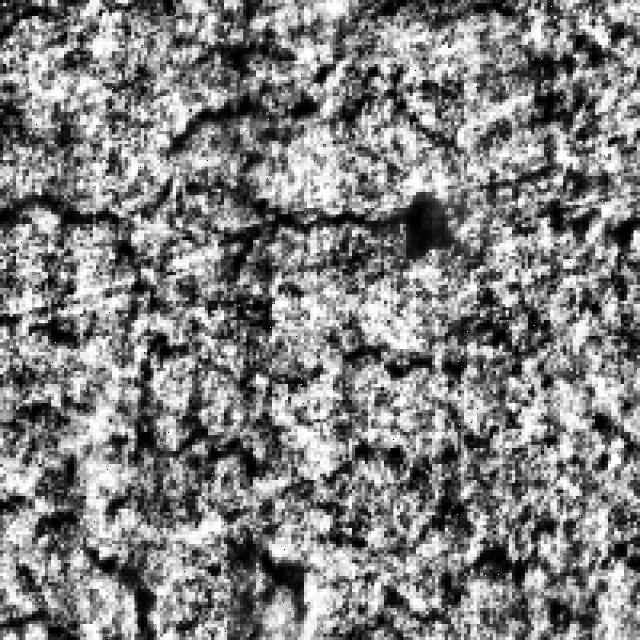Pitted_Surface: (0, 390, 595, 630), (0, 182, 554, 406), (0, 16, 474, 227)
